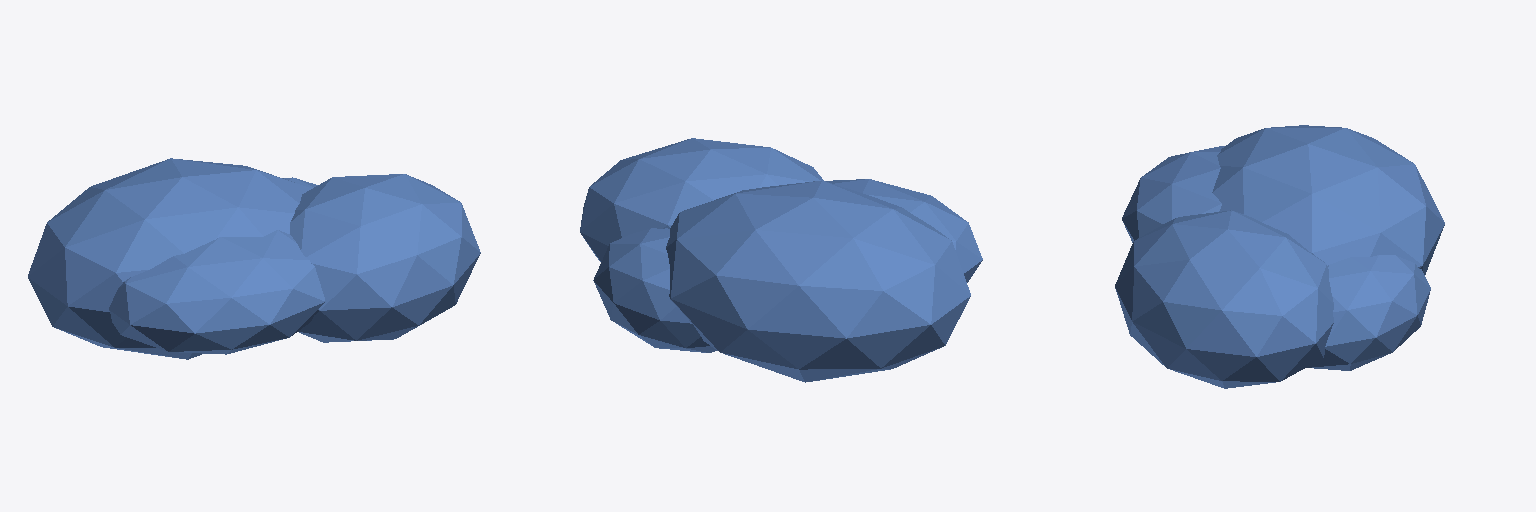
Rendered from cloud.obj.
3 renders of one model, left to right at view 1: azimuth 30°, elevation 25°; view 2: azimuth 150°, elevation 25°; view 3: azimuth 270°, elevation 25°, orthographic.
Parts seen in each view (by area): view 1: Icosphere; view 2: Icosphere; view 3: Icosphere.
Boxes of the visible parts, <box> form: Icosphere: <box>28,158,480,359</box>; Icosphere: <box>580,138,982,382</box>; Icosphere: <box>1115,125,1444,388</box>.
Bounding box in the file's own units: 5.38 × 2.18 × 3.93.